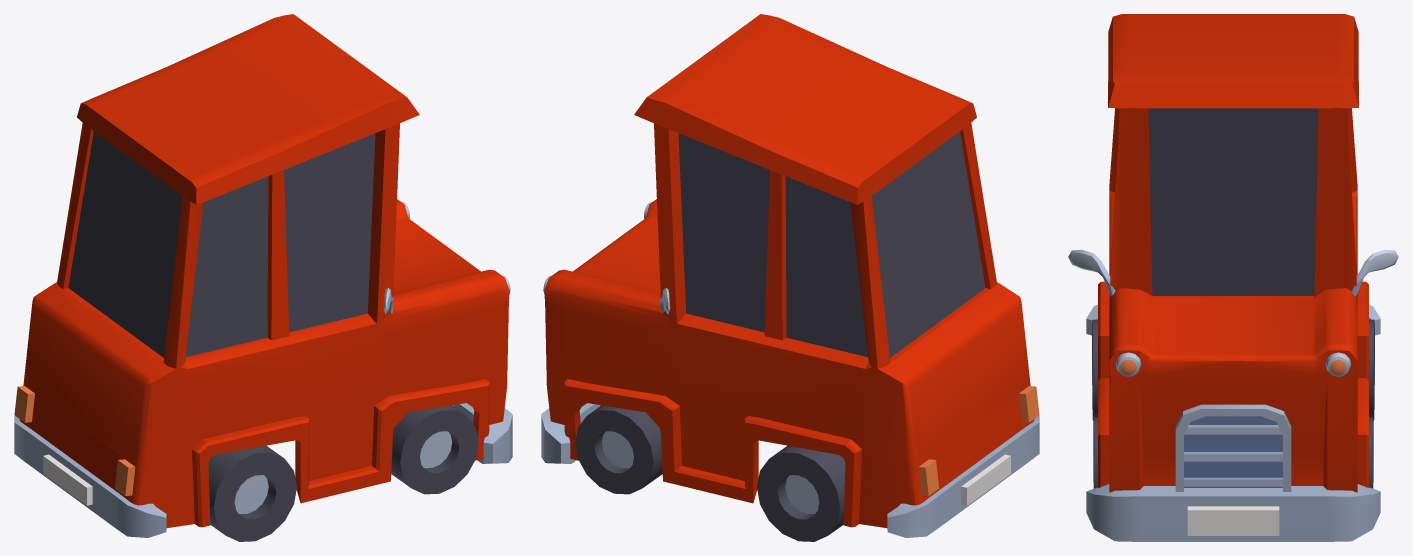
The model's file is Car.fbx.
3 views of the same model, side by side, from view 1: azimuth 30°, elevation 25°; view 2: azimuth 150°, elevation 25°; view 3: azimuth 270°, elevation 25° (orthographic). The views are drawn at different scales.
Visible parts, largest first — view 1: Car; view 2: Car; view 3: Car.
Boxes of the visible parts, left/top/right/bottom form: Car: left=14, top=14, right=512, bottom=541; Car: left=541, top=14, right=1039, bottom=541; Car: left=1068, top=14, right=1398, bottom=541.
Size of the model in its own units: 1.68 by 1.6 by 1.16.
